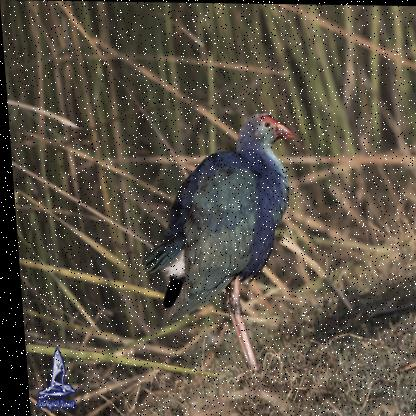Burung: (129, 110, 304, 376)
